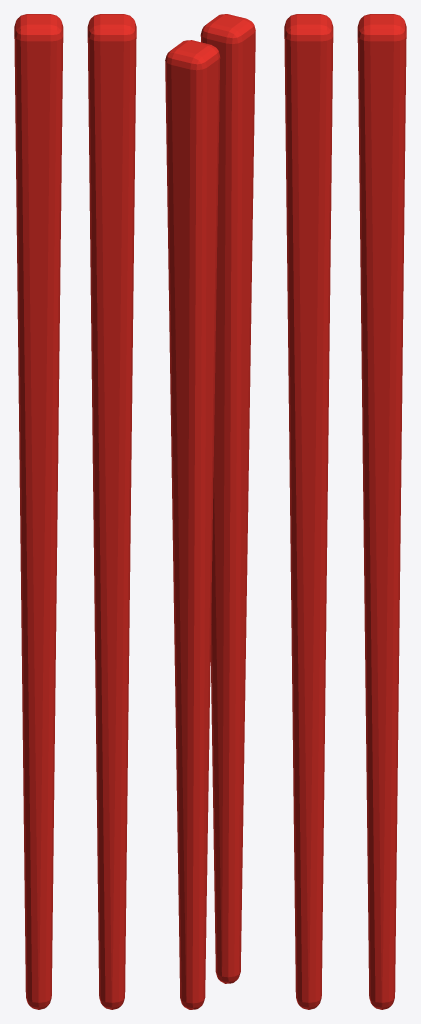
Rendered from chopsticks.fbx.
3 views of the same model, side by side, from view 1: azimuth 90°, elevation 25°; view 2: azimuth 150°, elevation 25°; view 3: azimuth 270°, elevation 25° (orthographic). The views are drawn at different scales.
Parts seen in each view (by area): view 1: Cube; view 2: Cube; view 3: Cube.
Part boxes in pixels (x1,y1,x2,y2): Cube: [14, 14, 136, 1009]; Cube: [165, 14, 255, 1009]; Cube: [284, 14, 406, 1009].
Size of the model in its own units: 31.86 by 727 by 81.32.
